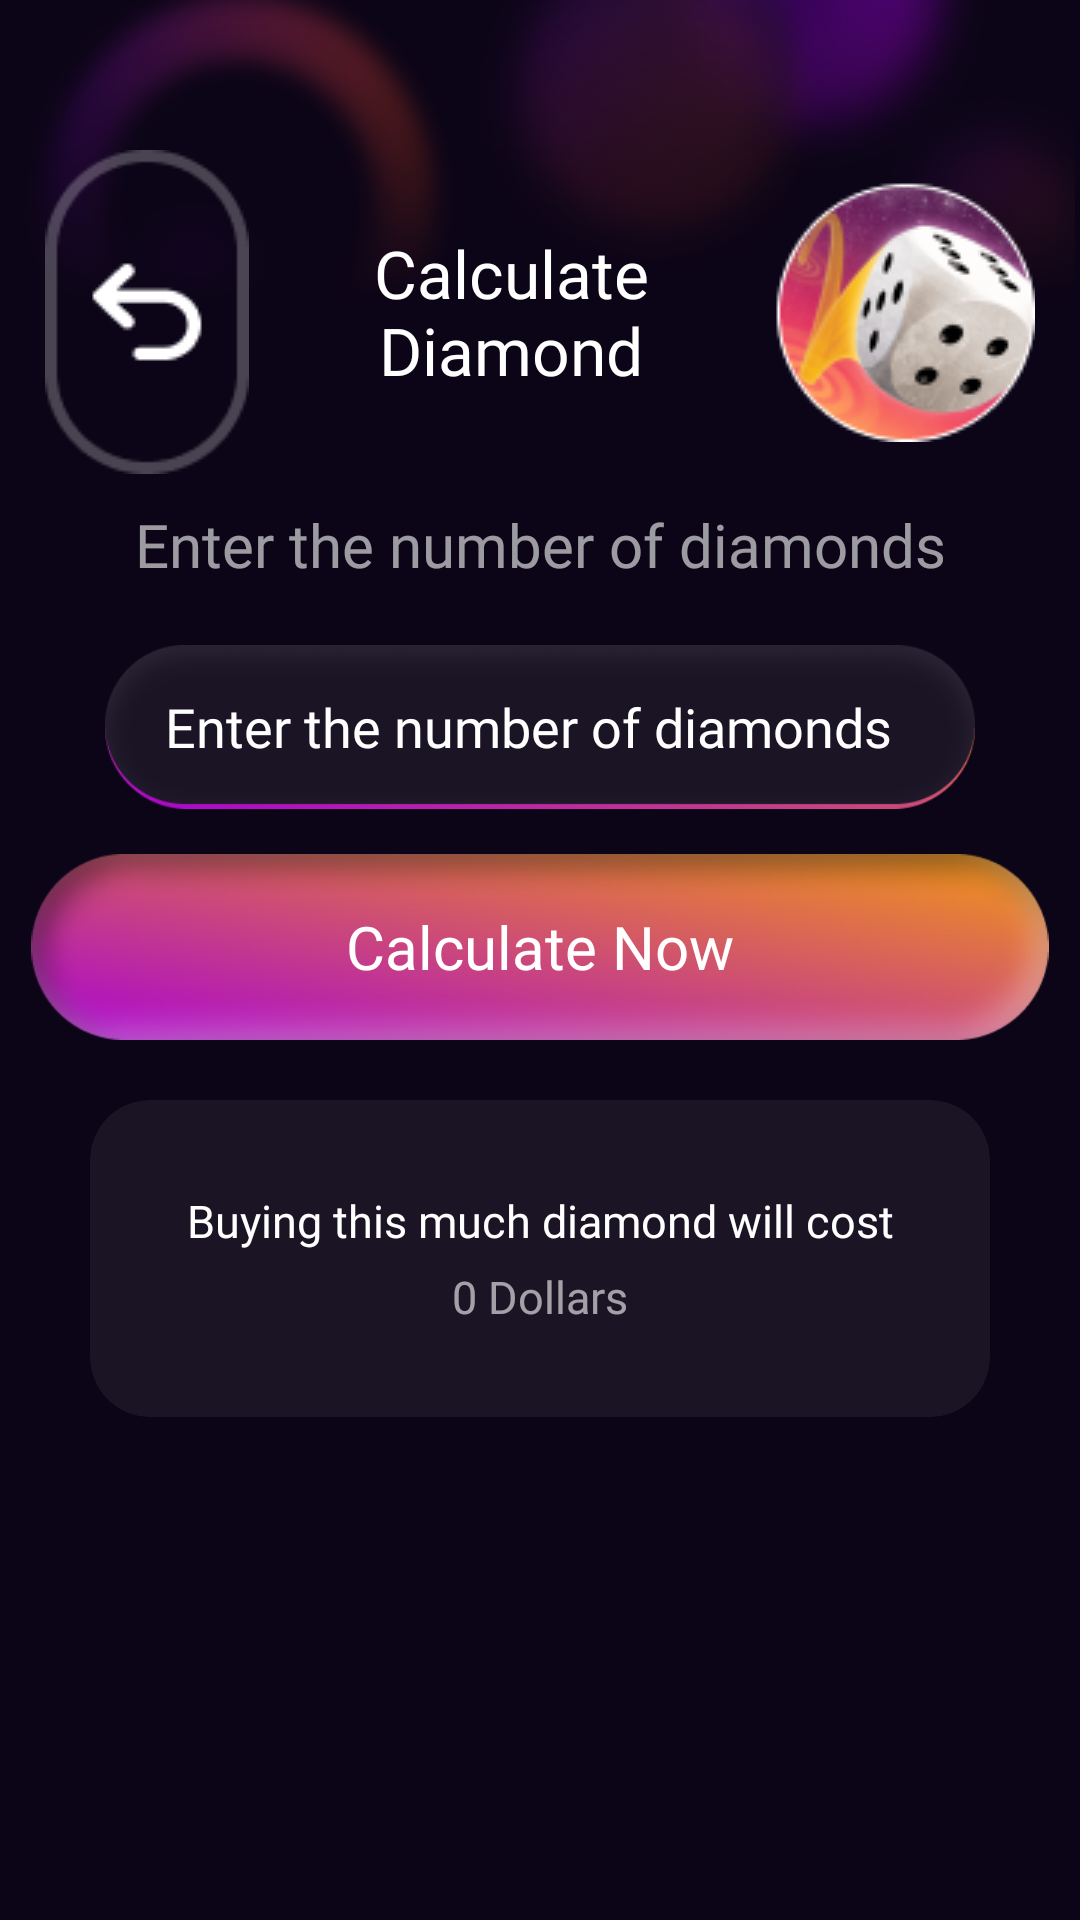

Icon bounding boxes for this 1080px x 1920px phone screenshot, format [x1,y1,x2,y2]:
back: [45,150,249,474]
